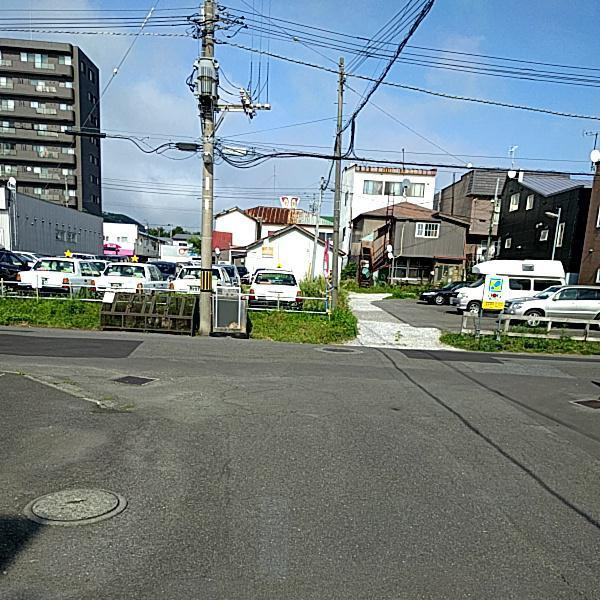D50: (21, 484, 122, 523), (112, 369, 154, 386), (320, 345, 358, 355), (578, 395, 599, 409)
